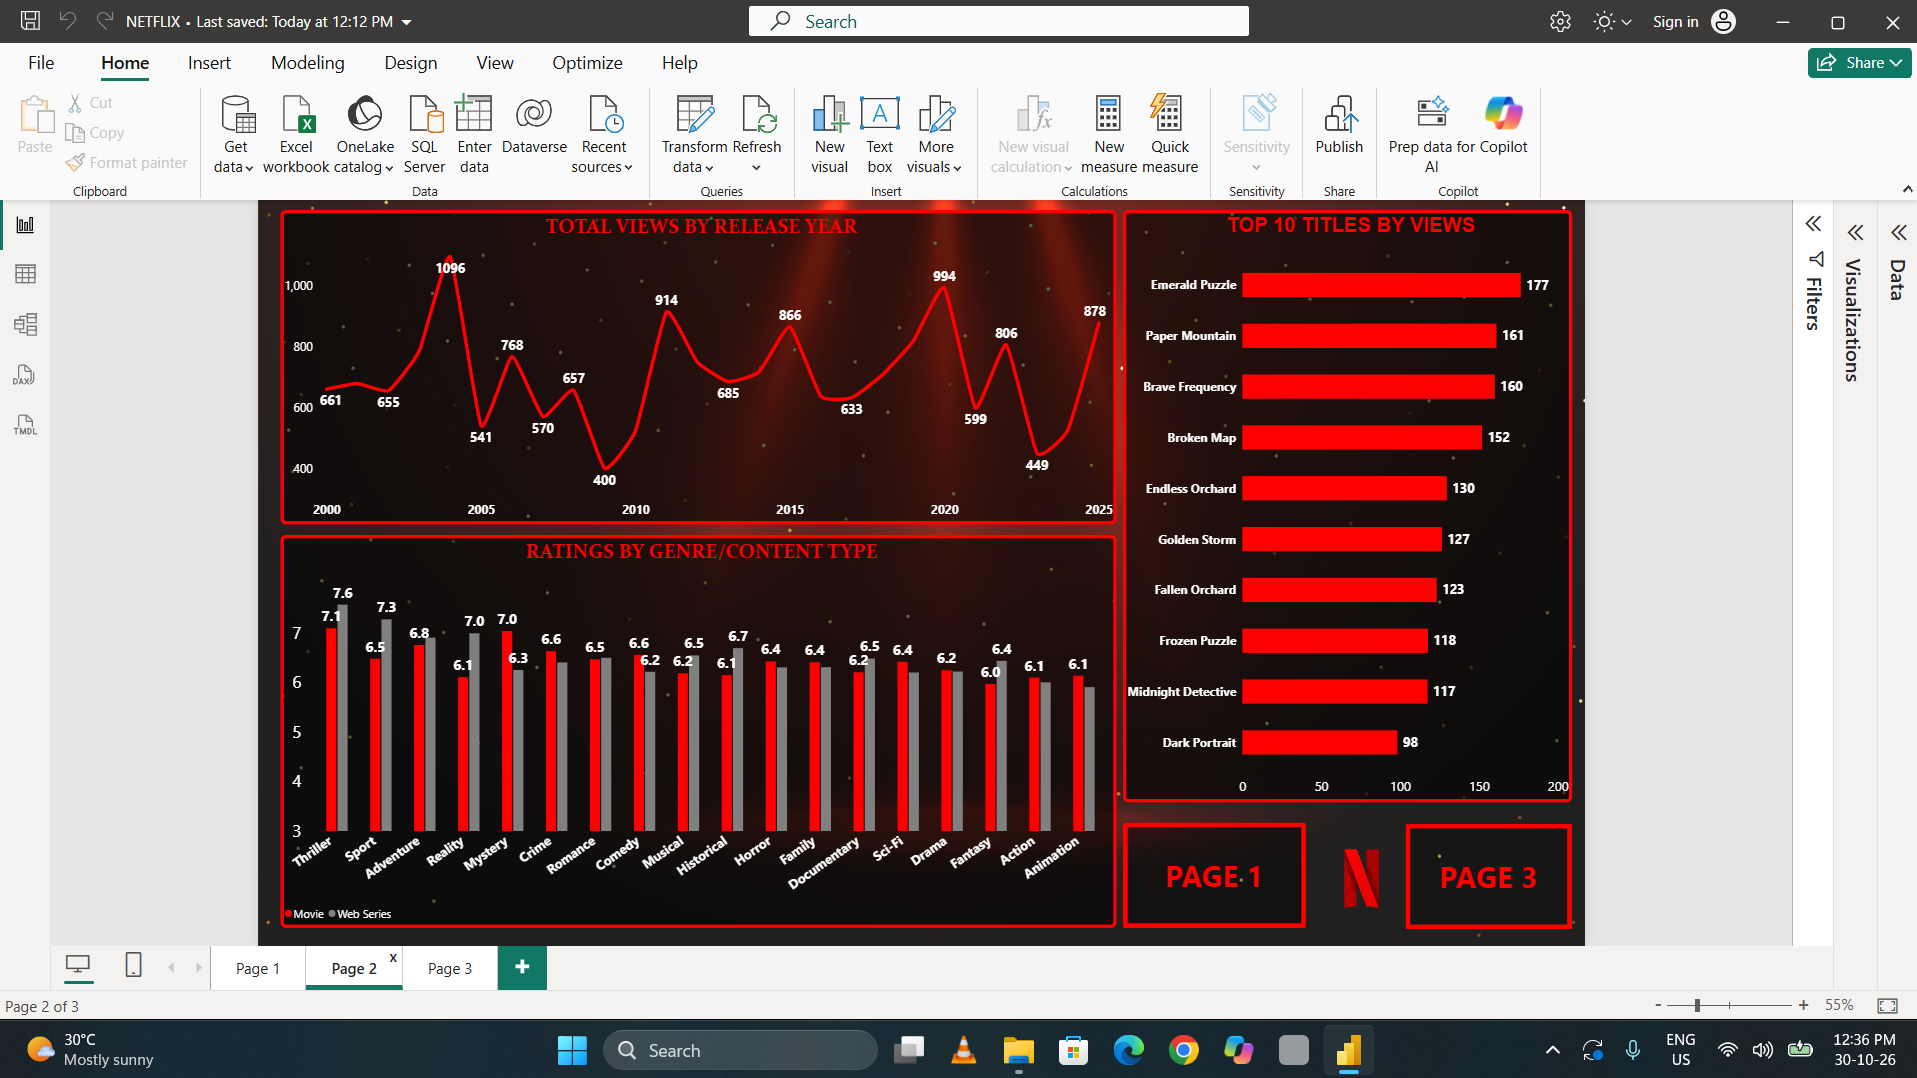

This screenshot's page, from the dashboard's own definition file:
{"tool":"powerbi","page":{"name":"Page 2","canvas":[1920,1080],"ordinal":1},"visuals":[{"type":"lineChart","title":"TOTAL VIEWS BY RELEASE YEAR","fields":{"Category":["Netflix_Data.release_date.Variation.Date Hierarchy.Year"],"Y":["Sum(Netflix_Data.views_millions)"]},"box":[32.1,15,1210.2,455.4],"z":0},{"type":"clusteredColumnChart","title":"RATINGS BY GENRE/CONTENT TYPE","fields":{"Category":["Netflix_Data.genre"],"Series":["Netflix_Data.content_type"],"Y":["Avg(Netflix_Data.rating)"]},"box":[32.1,485.3,1210.2,568.7],"z":1000},{"type":"clusteredBarChart","title":"TOP 10 TITLES BY VIEWS","fields":{"Category":["Netflix_Data.title"],"Y":["Sum(Netflix_Data.views_millions)"]},"box":[1252,15.1,650.8,857.6],"z":2000},{"type":"actionButton","box":[1252,900.7,265.1,153],"z":3000},{"type":"textbox","box":[100,100,300,300],"z":4000},{"type":"actionButton","box":[1661.4,902.9,241.3,153],"z":5000},{"type":"image","box":[1517,922.3,165.9,118.5],"z":6000}]}

Visuals, with their boxes on the page's 1920x1080 design canvas (x1, y1, x2, y2). These are canvas units, not pixel positions in the 1917x1078 screenshot, which may show the page scaled, cropped or inside an application window:
"TOTAL VIEWS BY RELEASE YEAR" lineChart: [left=32, top=15, right=1242, bottom=470]
"RATINGS BY GENRE/CONTENT TYPE" clusteredColumnChart: [left=32, top=485, right=1242, bottom=1054]
"TOP 10 TITLES BY VIEWS" clusteredBarChart: [left=1252, top=15, right=1903, bottom=873]
actionButton: [left=1252, top=901, right=1517, bottom=1054]
textbox: [left=100, top=100, right=400, bottom=400]
actionButton: [left=1661, top=903, right=1903, bottom=1056]
image: [left=1517, top=922, right=1683, bottom=1041]
